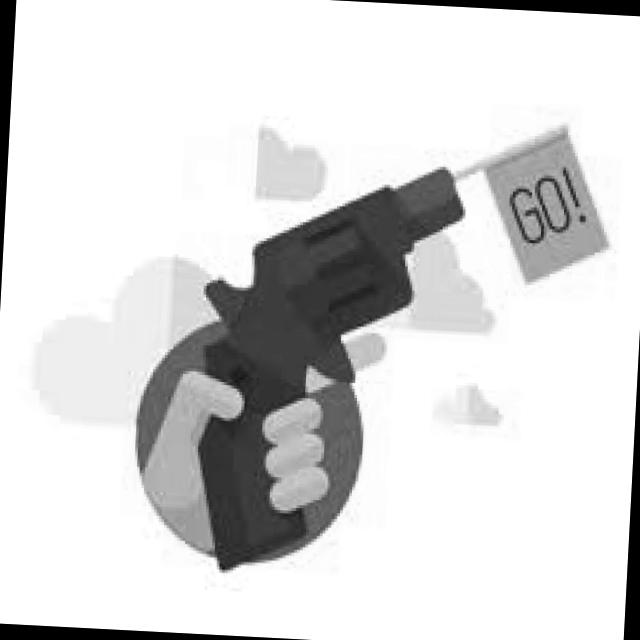gun: (184, 148, 470, 588)
